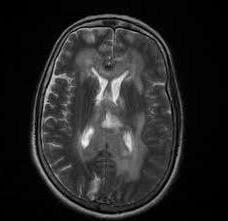Normal_Brain: (22, 16, 205, 221)
